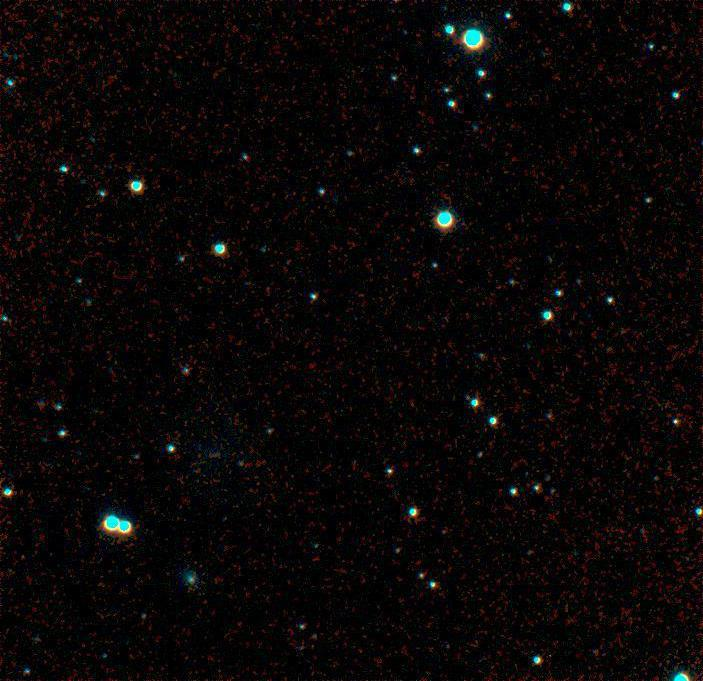star: (362, 114, 392, 144)
